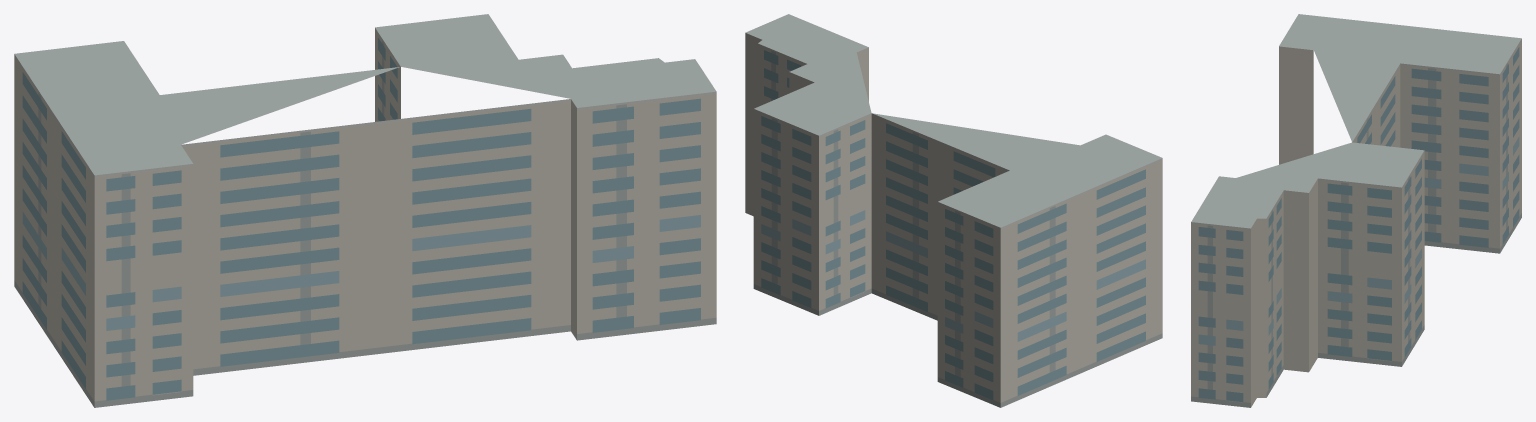
The model's file is residential-0e4e16ab-a588-444b-b287-50198d08ddf8.glb.
3 views of the same model, side by side, from view 1: azimuth 30°, elevation 25°; view 2: azimuth 150°, elevation 25°; view 3: azimuth 270°, elevation 25° (orthographic). The views are drawn at different scales.
Visible parts, largest first — view 1: residential-0e4e16ab-a588-444b-b287-50198d08ddf8.tmp; view 2: residential-0e4e16ab-a588-444b-b287-50198d08ddf8.tmp; view 3: residential-0e4e16ab-a588-444b-b287-50198d08ddf8.tmp.
Part boxes in pixels (x1,y1,x2,y2): residential-0e4e16ab-a588-444b-b287-50198d08ddf8.tmp: [14, 14, 716, 407]; residential-0e4e16ab-a588-444b-b287-50198d08ddf8.tmp: [745, 14, 1162, 407]; residential-0e4e16ab-a588-444b-b287-50198d08ddf8.tmp: [1191, 14, 1521, 407].
Bounding box in the file's own units: 71.81 × 28 × 46.8.
